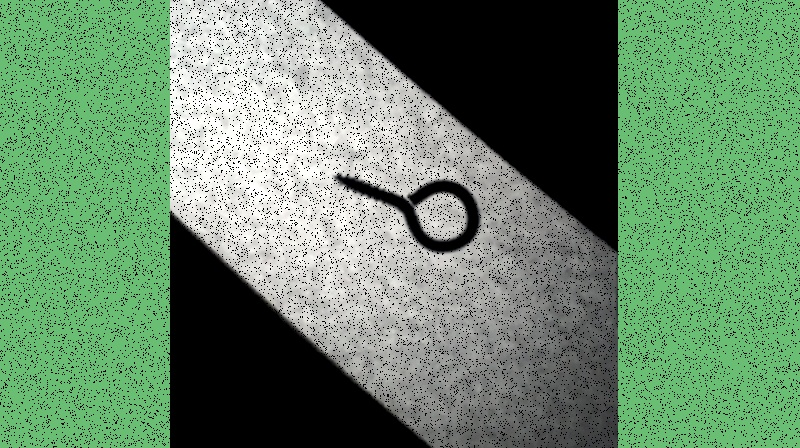O001: (330, 171, 482, 259)
